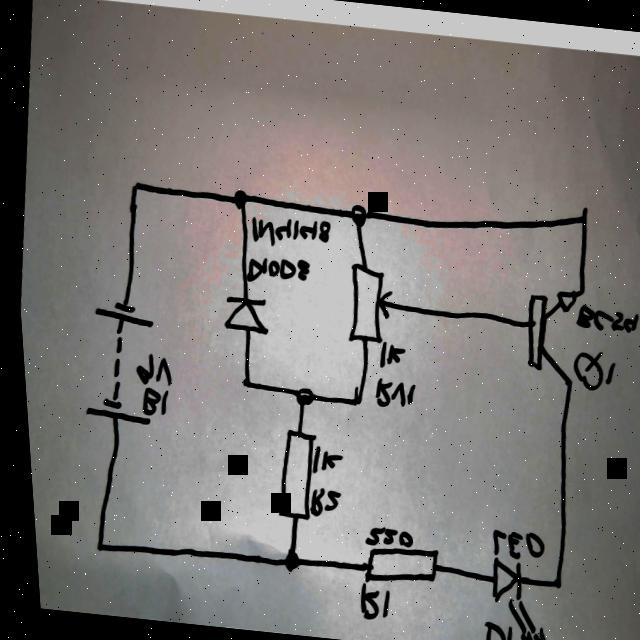diode: (474, 556, 547, 640), (216, 292, 267, 336)
junction: (344, 202, 367, 230), (274, 550, 293, 576), (287, 386, 309, 408), (227, 188, 247, 211), (572, 206, 589, 227), (540, 572, 557, 592), (85, 538, 100, 555), (125, 179, 140, 195), (233, 375, 248, 391), (345, 394, 359, 409), (572, 285, 584, 298), (558, 376, 569, 389)
resistor: (338, 262, 395, 346), (265, 428, 315, 520), (352, 541, 433, 591)
source: (77, 395, 146, 427), (88, 300, 151, 330)
text: (244, 212, 329, 252), (240, 253, 308, 290), (568, 304, 640, 338), (564, 348, 612, 394), (481, 528, 539, 561), (128, 351, 169, 389), (367, 377, 412, 411), (348, 582, 384, 623), (354, 524, 407, 550), (300, 486, 335, 520), (302, 446, 339, 478), (134, 386, 164, 418), (371, 340, 401, 371), (469, 617, 504, 640)
transistor: (510, 286, 577, 374)
